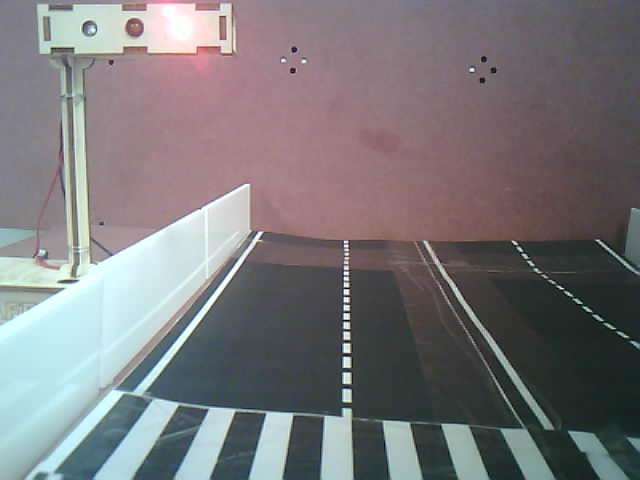crosswalk: (28, 425, 640, 480)
red: (29, 3, 241, 197)
